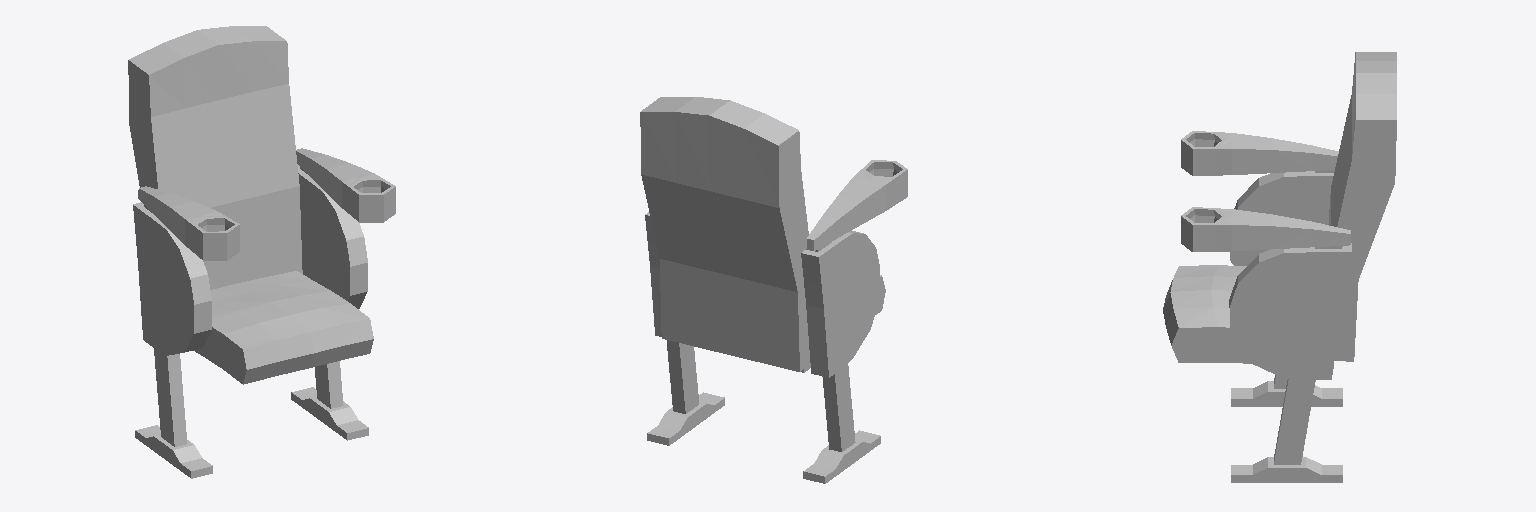
Rendered from seat.obj.
3 renders of one model, left to right at view 1: azimuth 30°, elevation 25°; view 2: azimuth 150°, elevation 25°; view 3: azimuth 270°, elevation 25°, orthographic.
Visible parts, largest first — view 1: Cube008; view 2: Cube008; view 3: Cube008.
Part boxes in pixels (left/top/right/bottom): Cube008: left=128, top=26, right=395, bottom=478; Cube008: left=640, top=97, right=907, bottom=483; Cube008: left=1163, top=52, right=1396, bottom=482.
Size of the model in its own units: 191 by 347 by 201.